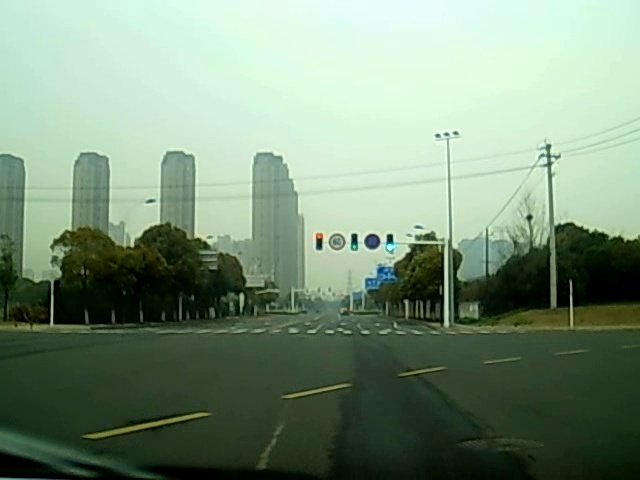Traffic_Light_go: (385, 234, 396, 255), (350, 234, 358, 252)
Traffic_Light_stop: (316, 232, 323, 251)
